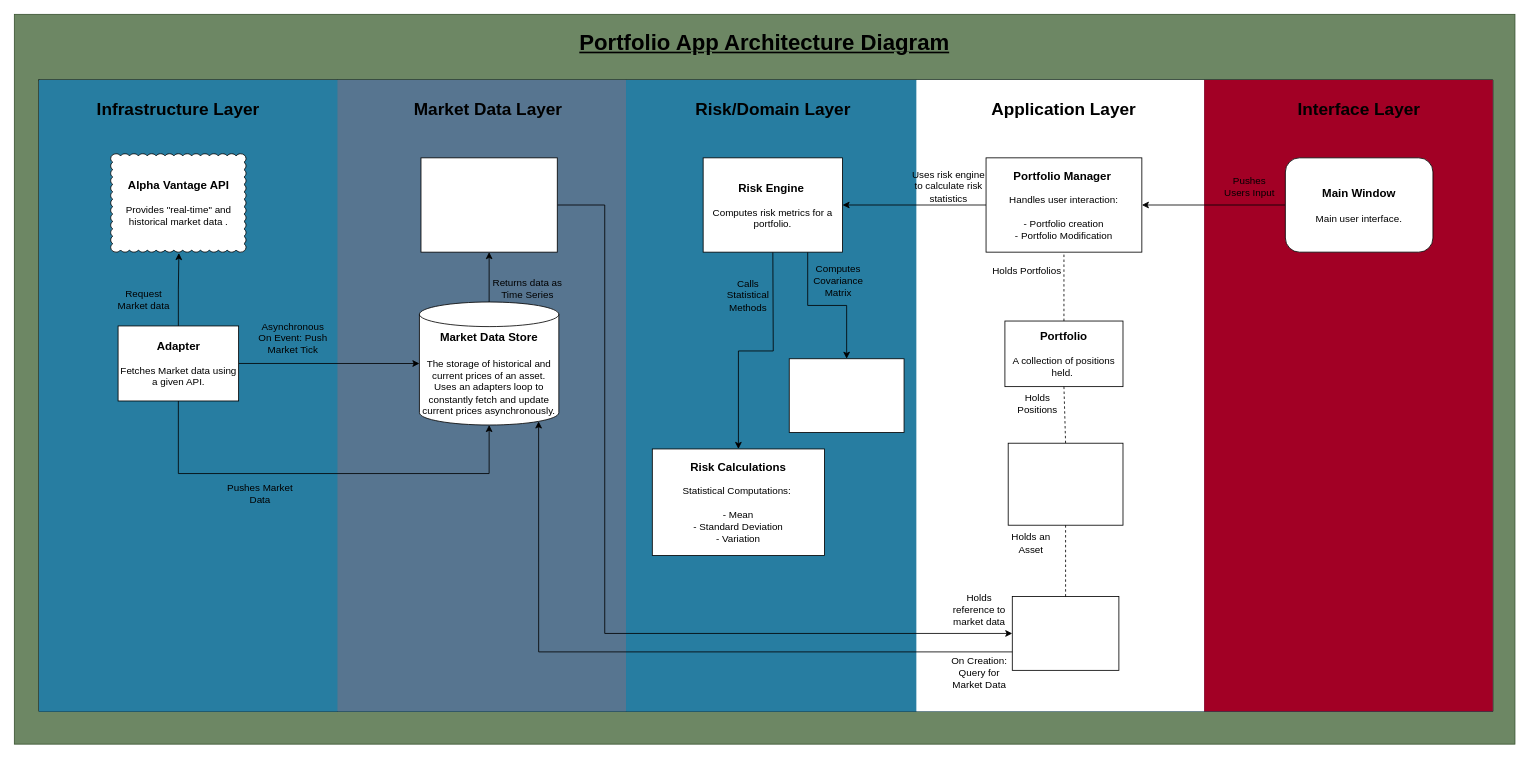
Some shapes in this 1529 by 765 pixel diagram are drawn without their labels. The shapes that lost their labels are listed below. From the top down, each one's centre as x and y in pixels, then its label:
[488,204]: Time Series Struct that holds historical market data
[846,395]: Covariance Matrix Contains covariance values.
[1065,483]: Position Exposure of the portfolio to a certain instrument.
[1065,633]: Asset A market instrument (stock, bond, cash etc)
